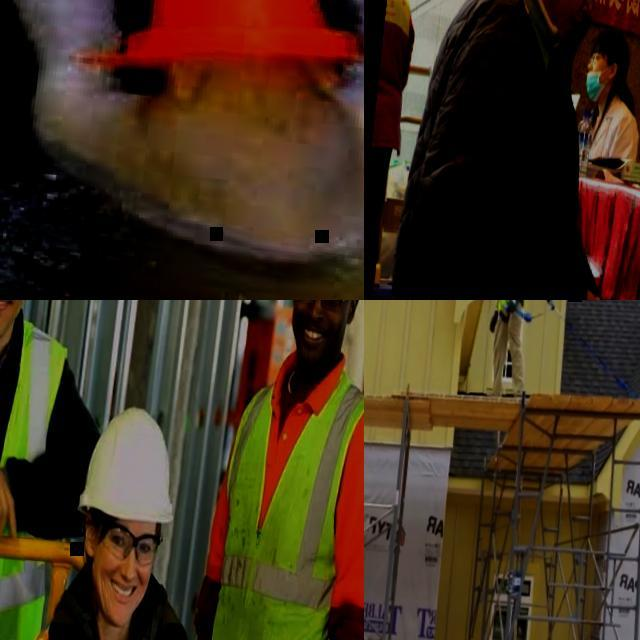helmet: (76, 396, 185, 529)
vest: (203, 366, 364, 640), (0, 302, 78, 640)
